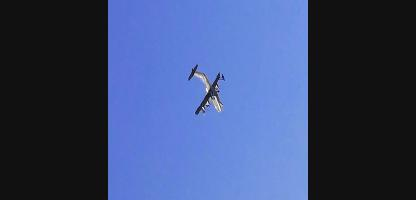Tu95: (187, 63, 225, 115)
